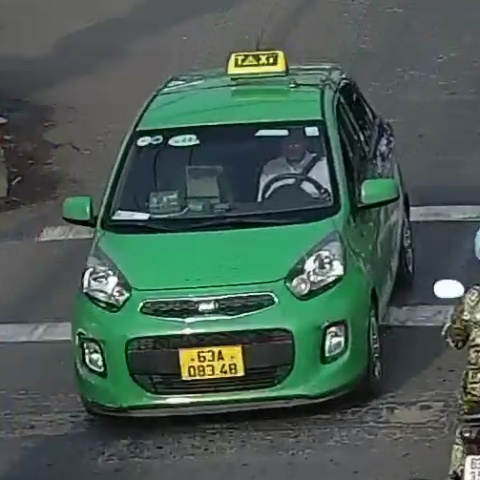vehicle plate: (170, 342, 256, 381)
